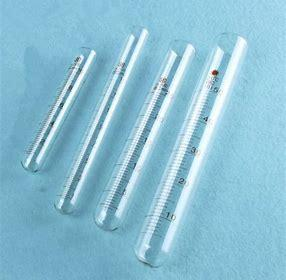Test tube: (26, 17, 248, 265)
